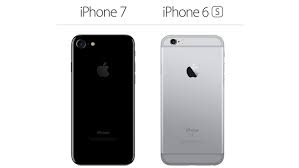iphone: (69, 31, 136, 164), (159, 31, 226, 164)
